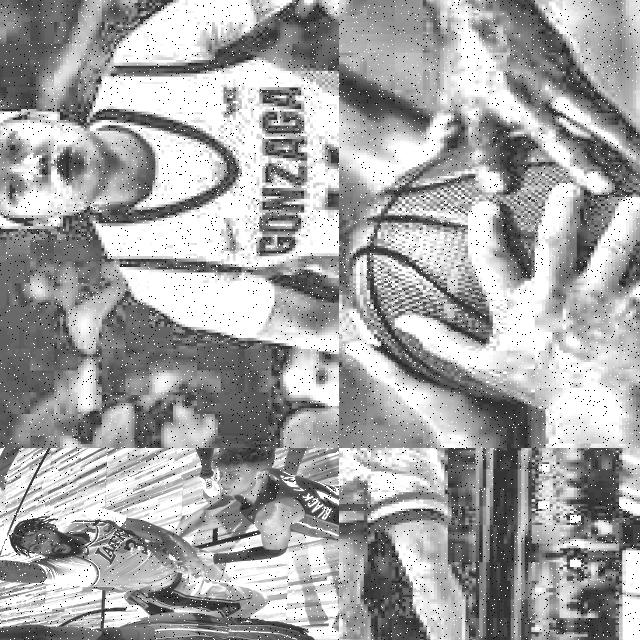Basketball: (349, 147, 507, 398), (496, 133, 570, 273)
